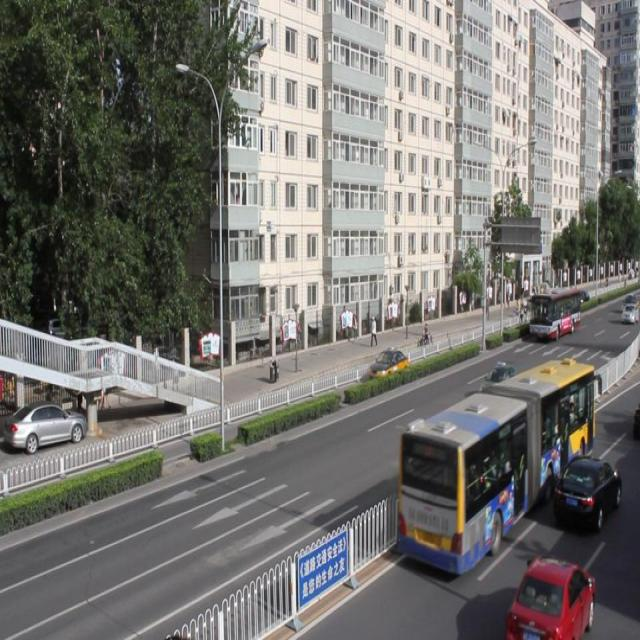car: (508, 556, 592, 640), (553, 454, 618, 525), (478, 366, 518, 407), (370, 346, 408, 383)
van: (399, 362, 590, 572)
